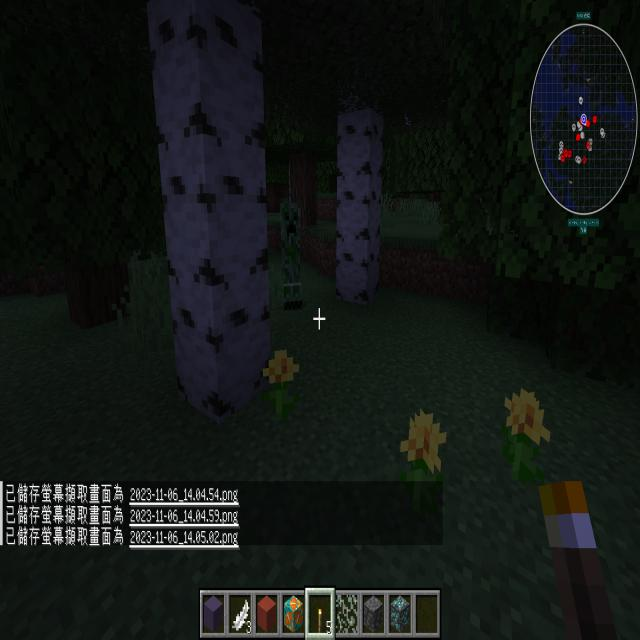Creeper: (274, 187, 318, 318)
